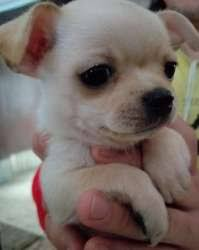chihuahua: (2, 2, 199, 235)
